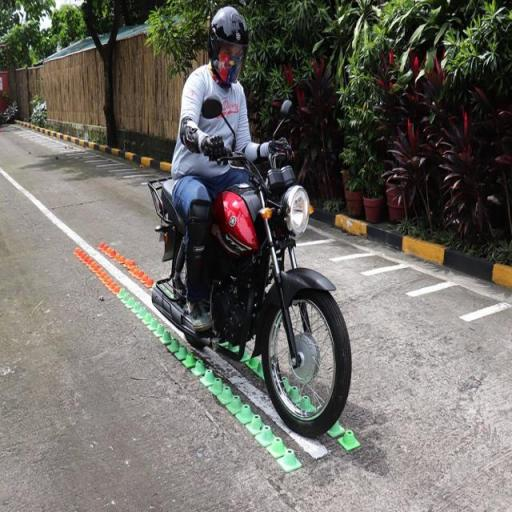Helmet: (209, 7, 248, 86)
Motor: (148, 151, 351, 435)
